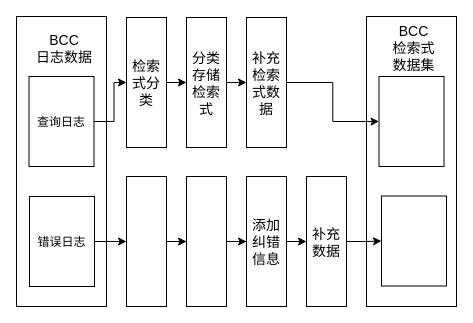
Image size: 473x323. Some labels were removed from this diagram. Here are the shapes that lost their labels. From the top down, the box of each, then its label:
(378, 76, 444, 166): 正确 检索式数据
(126, 176, 166, 306): 输入 错误 分类
(186, 176, 226, 306): 分类 存储 错误 数据
(380, 195, 446, 286): 纠错 检索式数据
